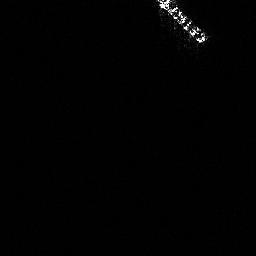ship: (156, 1, 210, 46)
